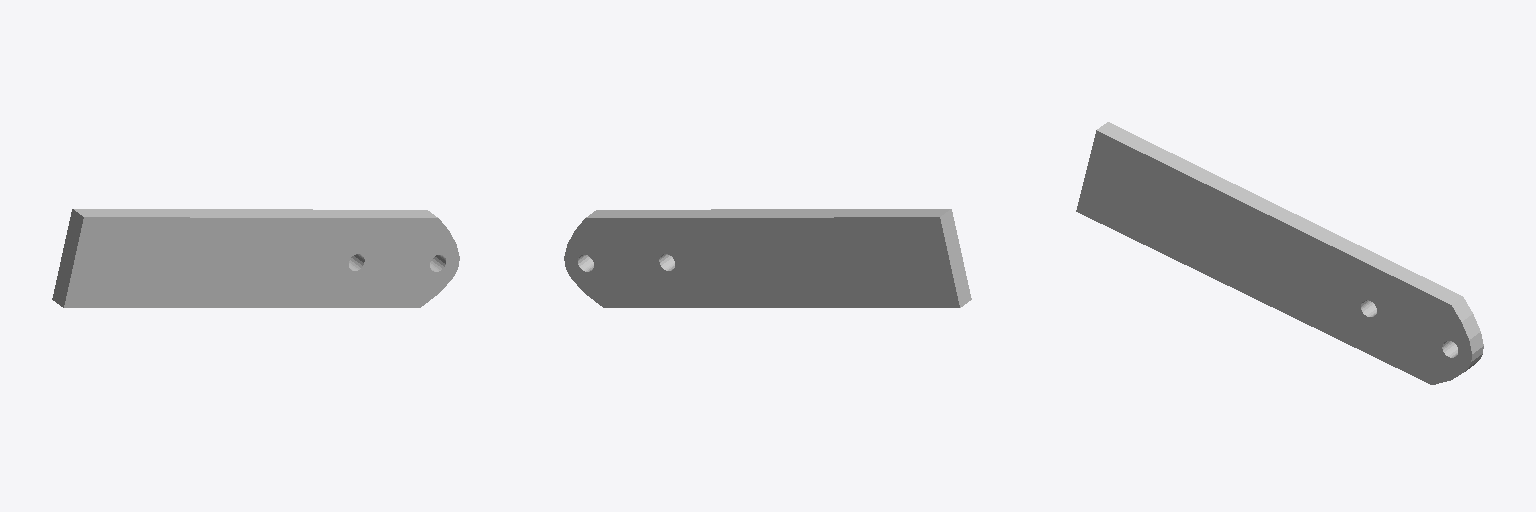
Rendered from cad-Cut015.obj.
3 views of the same model, side by side, from view 1: azimuth 30°, elevation 25°; view 2: azimuth 150°, elevation 25°; view 3: azimuth 330°, elevation 25° (orthographic).
Visible parts, largest first — view 1: Cut015; view 2: Cut015; view 3: Cut015.
Boxes of the visible parts, x1=… form: Cut015: x1=52, y1=209, x2=459, y2=307; Cut015: x1=564, y1=209, x2=971, y2=307; Cut015: x1=1076, y1=122, x2=1483, y2=384.
Bounding box in the file's own units: 49.01 × 20.48 × 2.5.